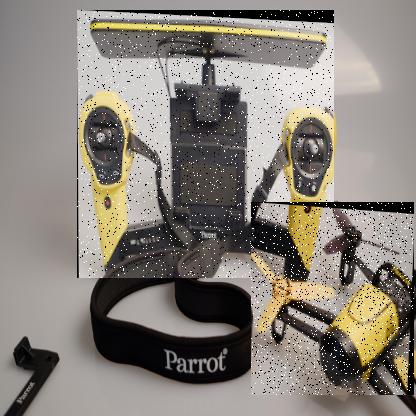Camera: (78, 11, 336, 280), (252, 203, 416, 397)
